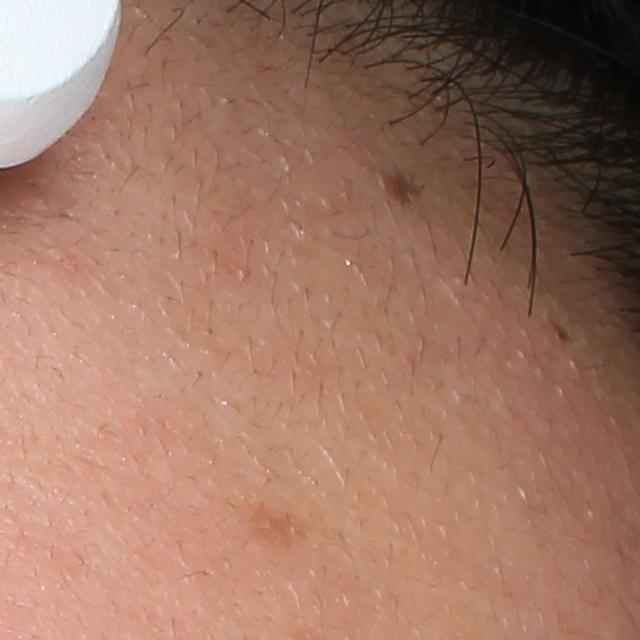nevus: (384, 169, 417, 209)
